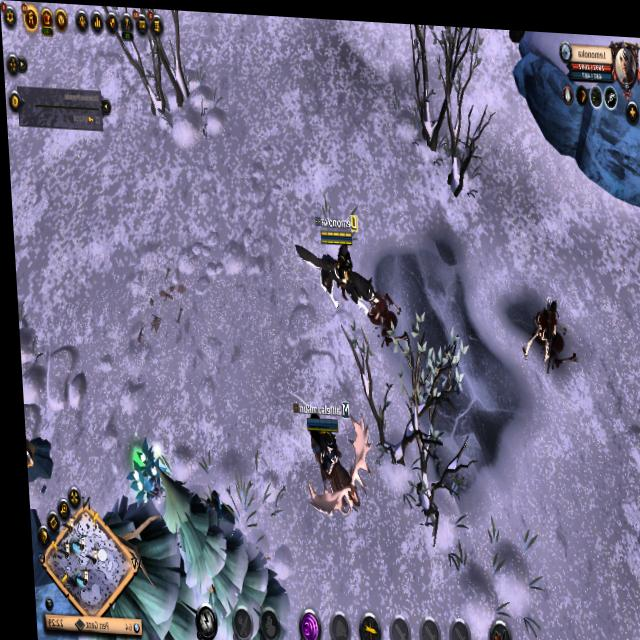fiber tier 4: (117, 431, 162, 507)
